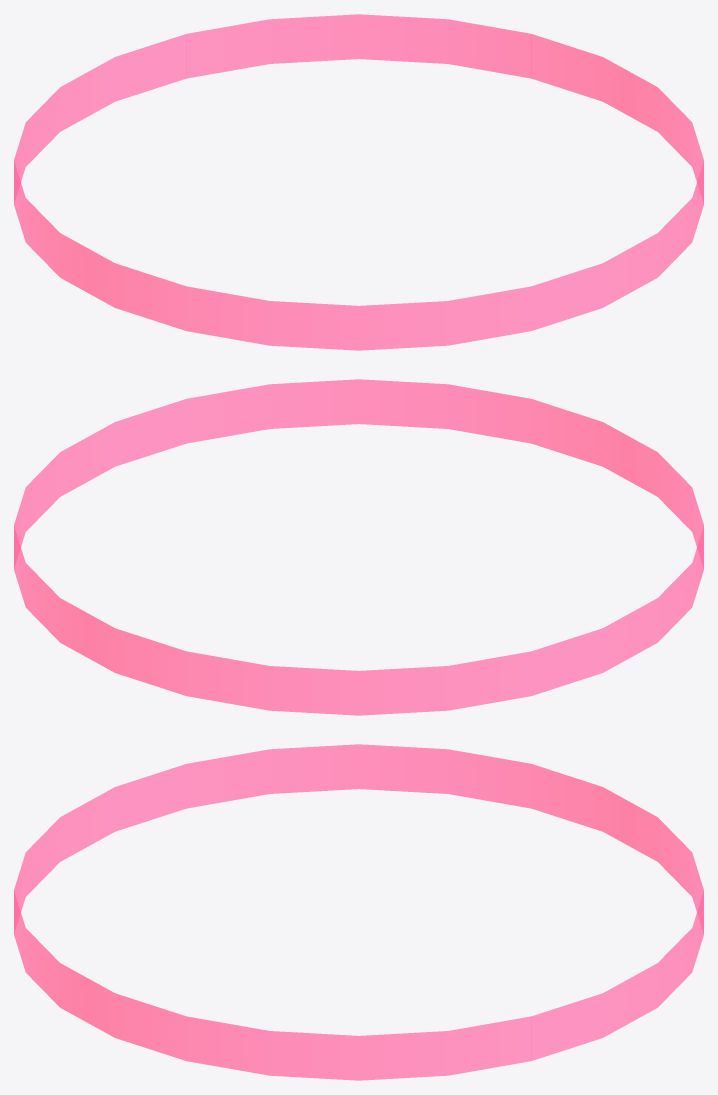
File: selection-ring.fbx
3 renders of one model, top to bottom at view 1: azimuth 30°, elevation 25°; view 2: azimuth 150°, elevation 25°; view 3: azimuth 270°, elevation 25°, orthographic.
Visible parts, largest first — view 1: Cylinder, Cylinder.001; view 2: Cylinder, Cylinder.001; view 3: Cylinder, Cylinder.001.
Part boxes in pixels (x1,y1,x2,y2): Cylinder: (14,14,703,350); Cylinder.001: (14,14,703,350); Cylinder: (14,379,703,715); Cylinder.001: (14,379,703,715); Cylinder: (14,744,703,1080); Cylinder.001: (14,744,703,1080).
Size of the model in its own units: 50 by 3.58 by 50.
